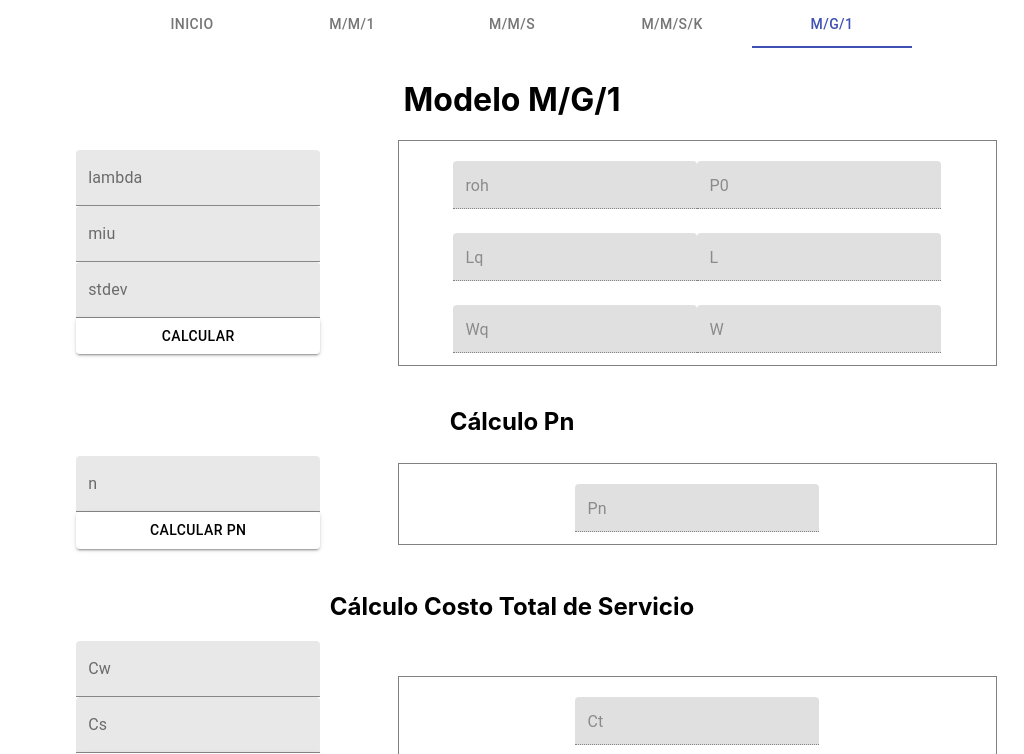
Test: Test input validation › lambda larger than miu times s error
The width and height of the screenshot is (1024, 754).
In the number field labelled "lambda": {"x": 198, "y": 178} 76,150 -> 320,206, type "2"
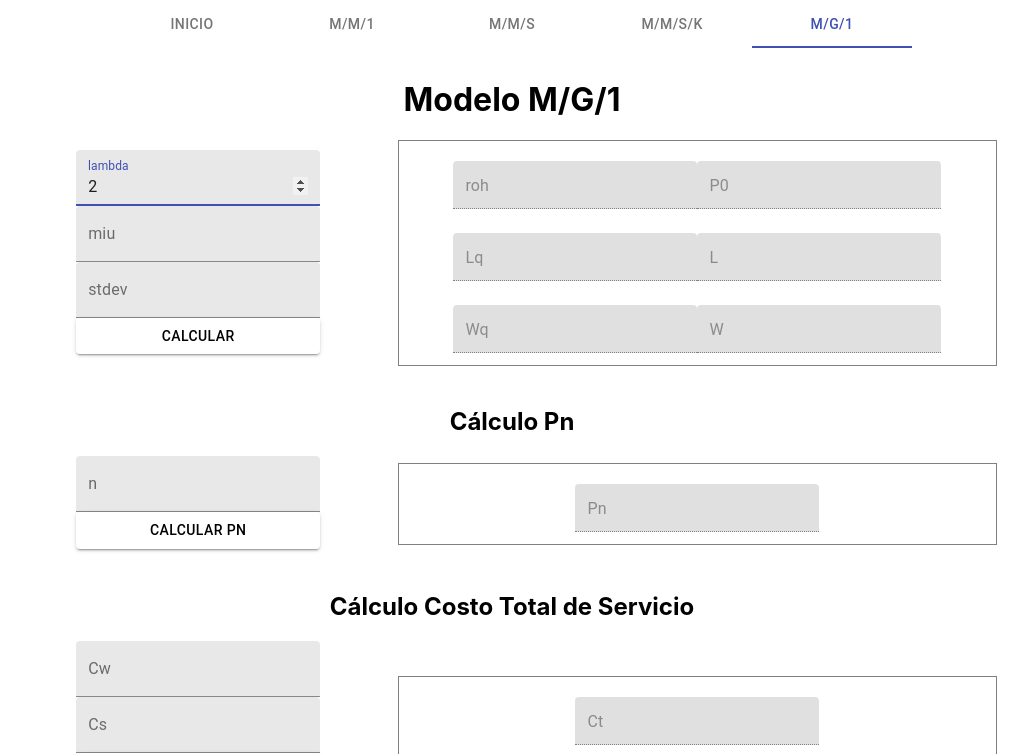
In the number field labelled "miu": {"x": 198, "y": 234} 76,206 -> 320,262, type "1"
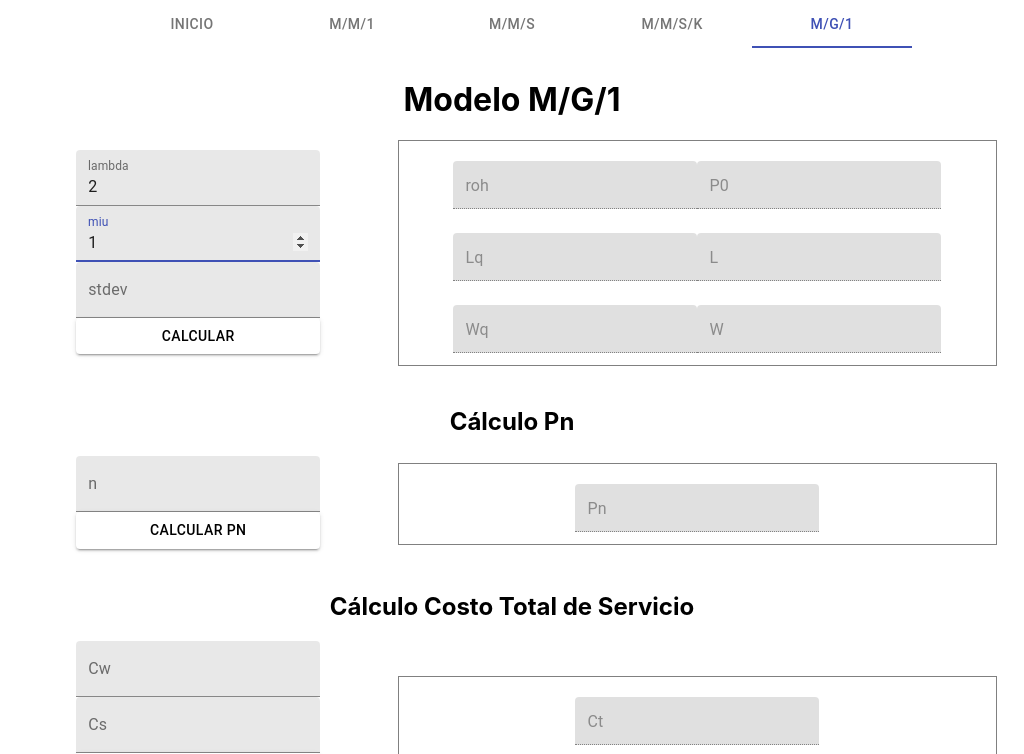
In the number field labelled "stdev": {"x": 198, "y": 290} 76,262 -> 320,318, type "1"
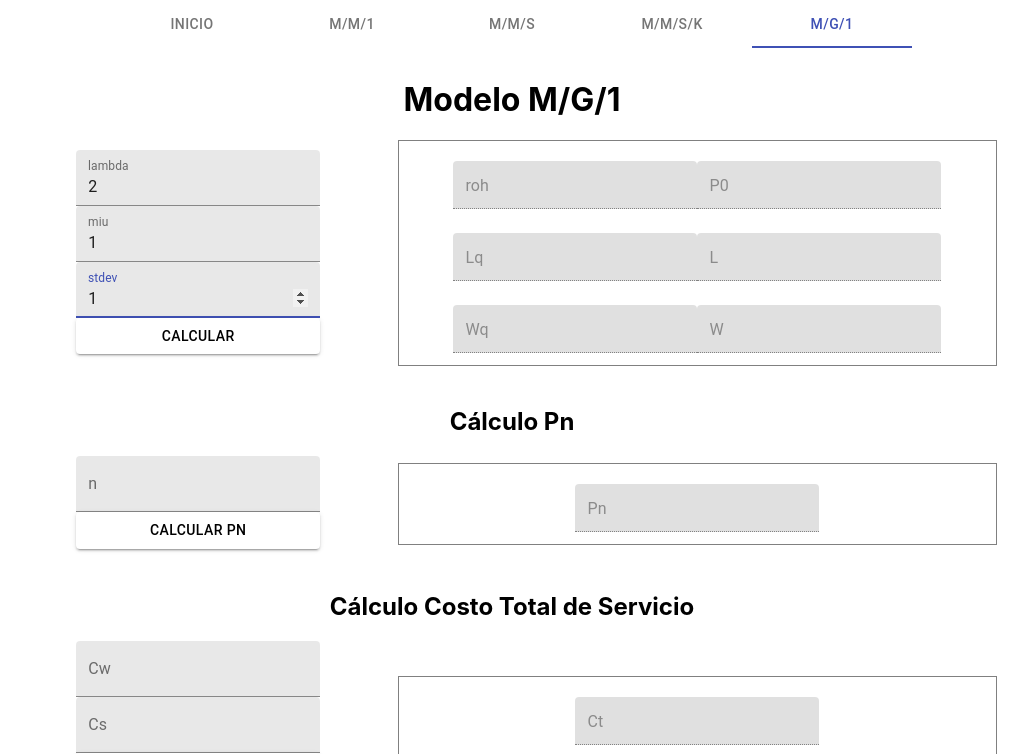
Click the button "Calcular": {"x": 198, "y": 336} 76,318 -> 320,354
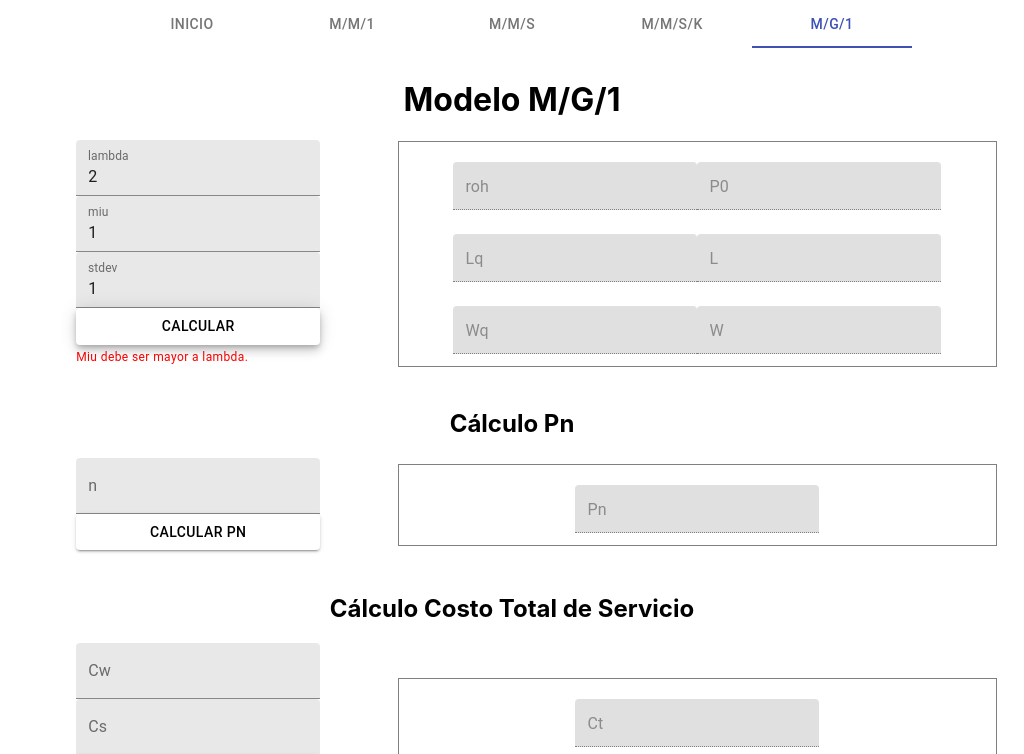
Check: the text "Miu debe ser mayor a lambda." is shown, box 76,350 -> 248,364
